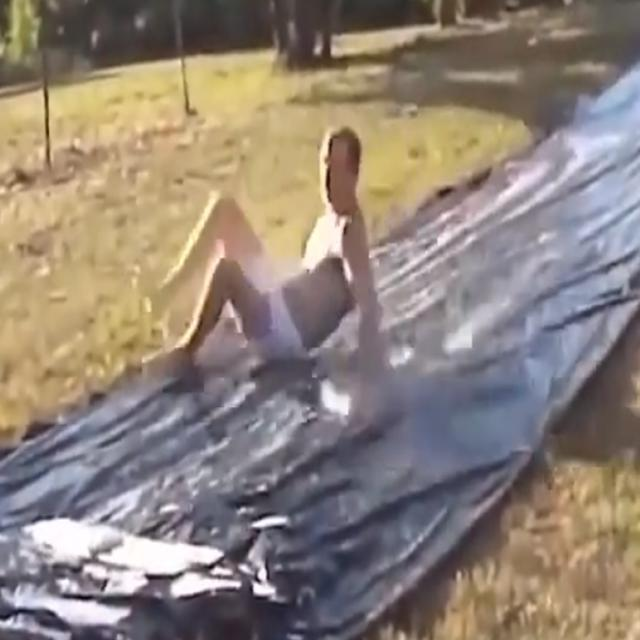fall: (158, 123, 380, 377)
